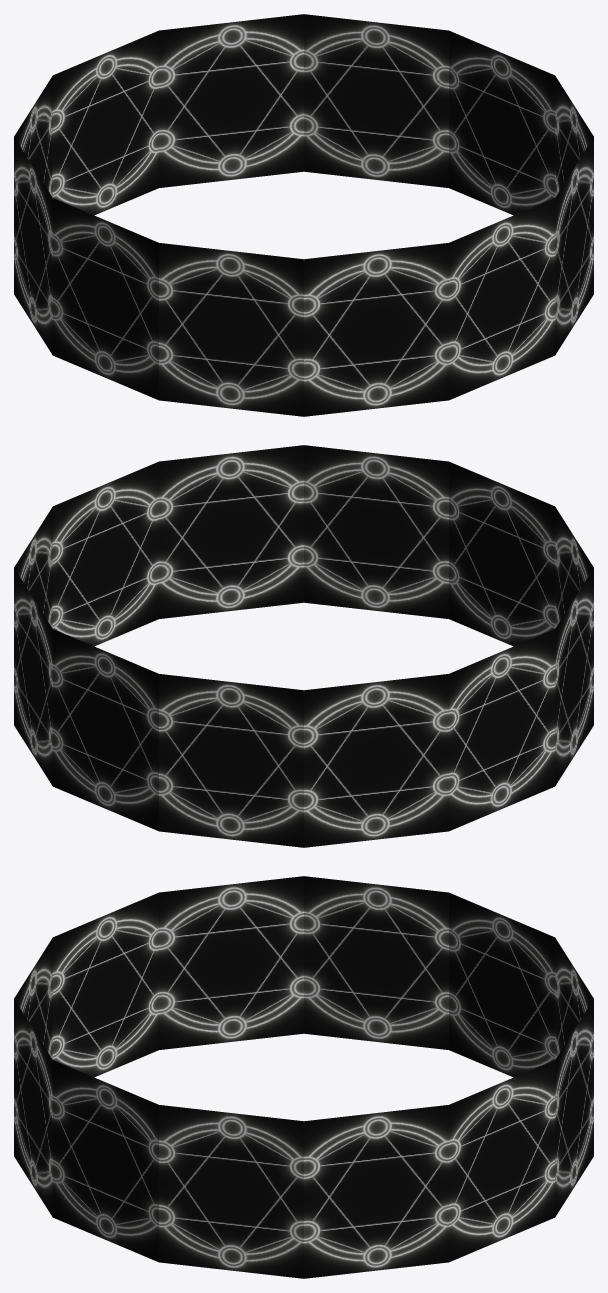
Rendered from HandMagicBracelet.fbx.
The picture shows the model from 3 angles, top to bottom: view 1: azimuth 30°, elevation 25°; view 2: azimuth 150°, elevation 25°; view 3: azimuth 270°, elevation 25°; orthographic projection.
Parts seen in each view (by area): view 1: Bracelet; view 2: Bracelet; view 3: Bracelet.
Boxes of the visible parts, x1,y1,x2,y2 form: Bracelet: (14, 14, 593, 416); Bracelet: (14, 445, 593, 847); Bracelet: (14, 876, 593, 1278).
Size of the model in its own units: 200 by 59.97 by 200.
